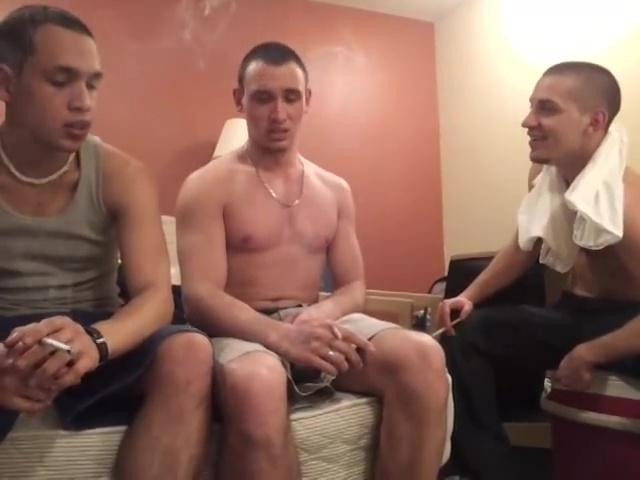cigarette: (40, 332, 74, 355), (432, 316, 463, 337), (332, 326, 347, 341)
